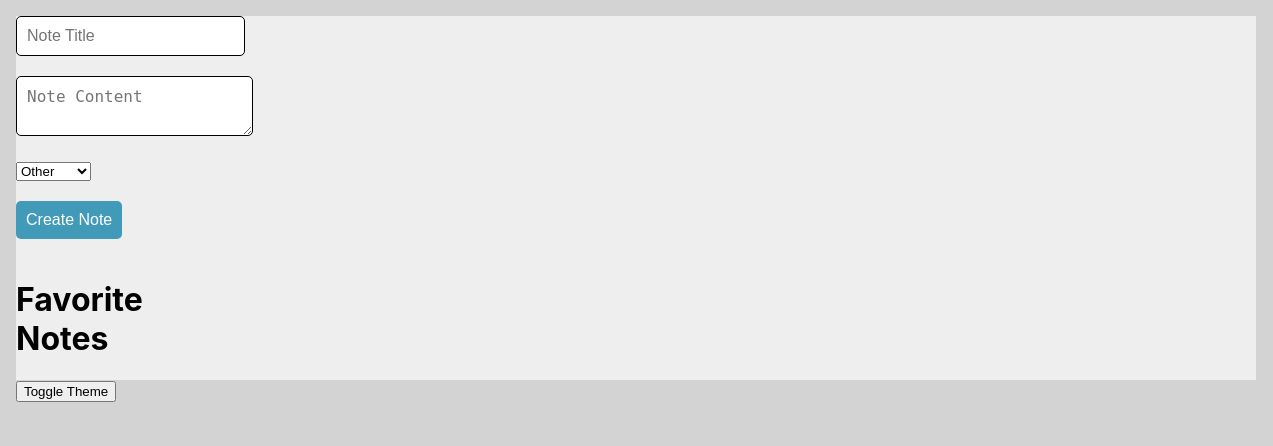
Test case: Create StickyNote › deletes a note
This screenshot has width=1273, height=446.
Type "Test Note" into the field with placeholder "Note Title" at (130, 36), box [16,16,245,56]
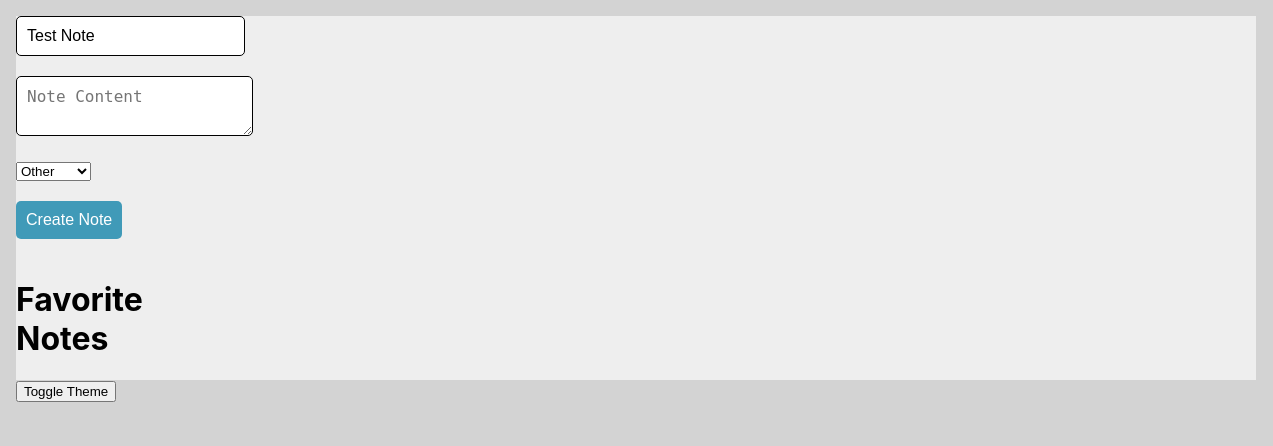
Type "Test Content" into the text box with placeholder "Note Content" at (134, 106), box [16,76,253,136]
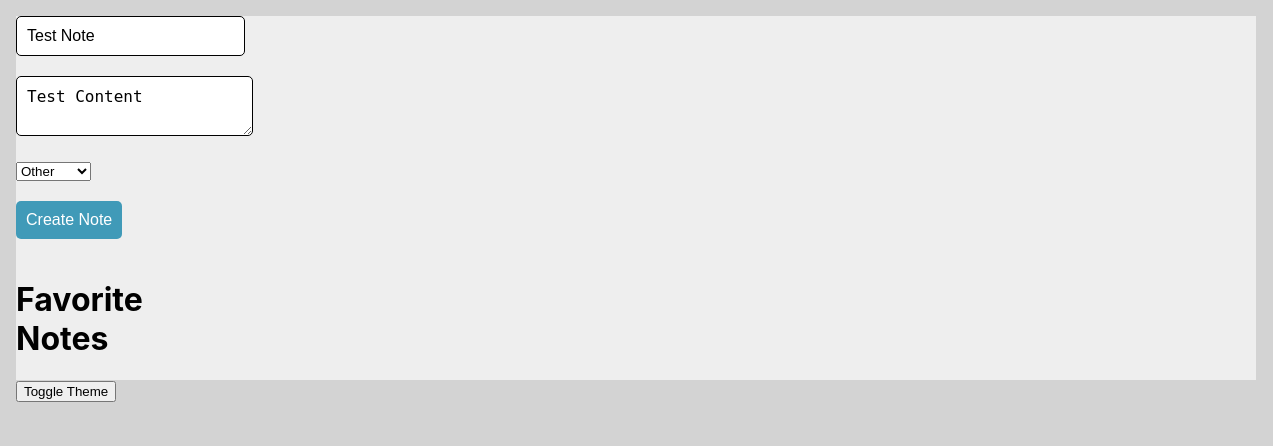
Click the button "Create Note" at (69, 220), box [16,201,122,239]
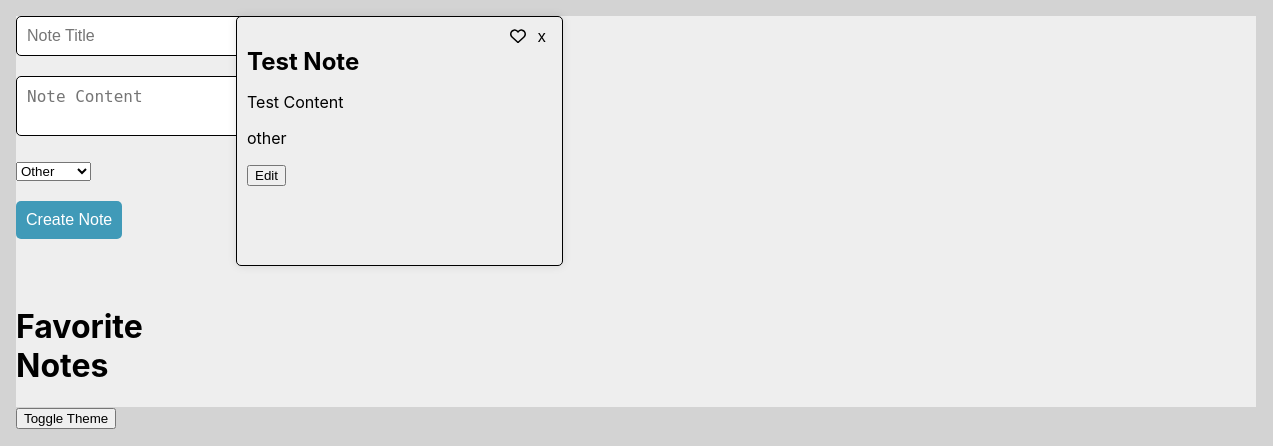
Note: deleting the note
Click the button with test id "delete-button-1" at (542, 37), box [532,27,552,47]
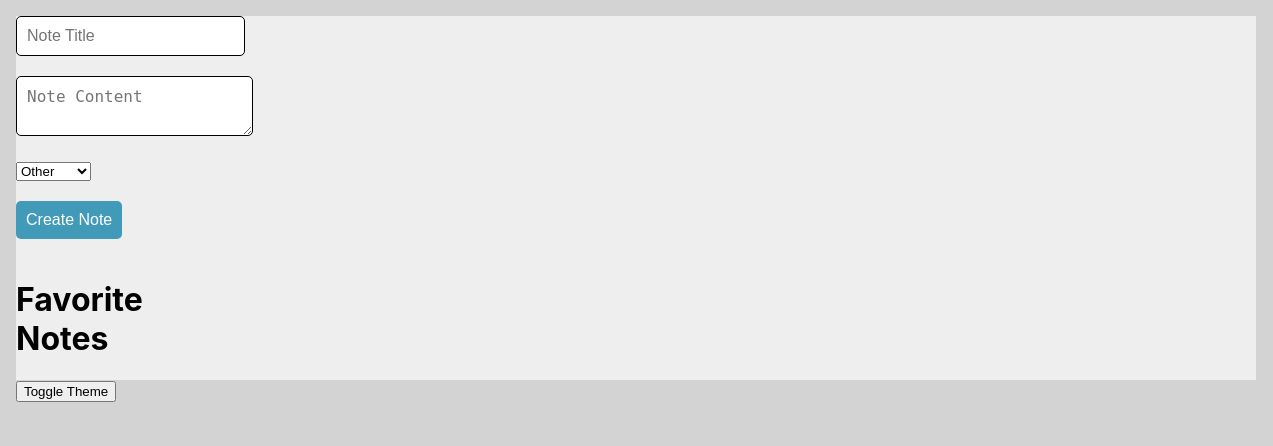
Check: the element with test id "note-item-1" is gone
